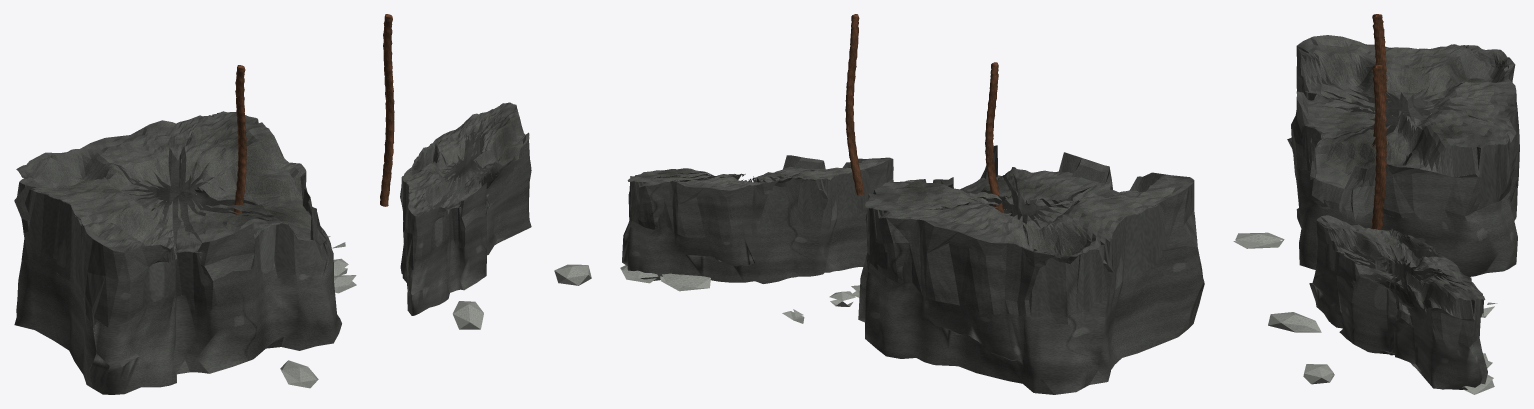
The model's file is lod1_NOT_APPROVED.glb.
3 views of the same model, side by side, from view 1: azimuth 30°, elevation 25°; view 2: azimuth 150°, elevation 25°; view 3: azimuth 270°, elevation 25° (orthographic). The views are drawn at different scales.
Parts seen in each view (by area): view 1: F3_CONCRETE_BROKEN_INTERIOR_WITH_EMBEDDED_STONES_surface, F3_OLD_CONCRETE_INTACT_AND_FRACTURE_surface, F3_CONCRETE_BROKEN_INTERIOR_WITH_EMBEDDED_STONES.001_surface, F3_OLD_CONCRETE_INTACT_AND_FRACTURE.001_surface, f3_exposed_aggregate_surface, oxidized_reinforcing_steel.001_surface, oxidized_reinforcing_steel_surface; view 2: F3_CONCRETE_BROKEN_INTERIOR_WITH_EMBEDDED_STONES_surface, F3_CONCRETE_BROKEN_INTERIOR_WITH_EMBEDDED_STONES.001_surface, F3_OLD_CONCRETE_INTACT_AND_FRACTURE_surface, F3_OLD_CONCRETE_INTACT_AND_FRACTURE.001_surface, f3_exposed_aggregate_surface, oxidized_reinforcing_steel.001_surface, oxidized_reinforcing_steel_surface; view 3: F3_CONCRETE_BROKEN_INTERIOR_WITH_EMBEDDED_STONES_surface, F3_OLD_CONCRETE_INTACT_AND_FRACTURE_surface, F3_CONCRETE_BROKEN_INTERIOR_WITH_EMBEDDED_STONES.001_surface, F3_OLD_CONCRETE_INTACT_AND_FRACTURE.001_surface, f3_exposed_aggregate_surface, oxidized_reinforcing_steel.001_surface, oxidized_reinforcing_steel_surface.
Part boxes in pixels (x1,y1,x2,y2): F3_CONCRETE_BROKEN_INTERIOR_WITH_EMBEDDED_STONES_surface: (14, 111, 341, 394); F3_OLD_CONCRETE_INTACT_AND_FRACTURE_surface: (36, 125, 333, 391); F3_CONCRETE_BROKEN_INTERIOR_WITH_EMBEDDED_STONES.001_surface: (400, 102, 531, 315); F3_OLD_CONCRETE_INTACT_AND_FRACTURE.001_surface: (402, 113, 529, 299); f3_exposed_aggregate_surface: (94, 236, 591, 388); oxidized_reinforcing_steel.001_surface: (380, 14, 394, 206); oxidized_reinforcing_steel_surface: (233, 65, 246, 215); F3_CONCRETE_BROKEN_INTERIOR_WITH_EMBEDDED_STONES_surface: (858, 145, 1204, 394); F3_CONCRETE_BROKEN_INTERIOR_WITH_EMBEDDED_STONES.001_surface: (622, 155, 893, 283); F3_OLD_CONCRETE_INTACT_AND_FRACTURE_surface: (890, 171, 1192, 366); F3_OLD_CONCRETE_INTACT_AND_FRACTURE.001_surface: (653, 159, 890, 280); f3_exposed_aggregate_surface: (620, 265, 859, 323); oxidized_reinforcing_steel.001_surface: (845, 14, 864, 195); oxidized_reinforcing_steel_surface: (985, 62, 1003, 212); F3_CONCRETE_BROKEN_INTERIOR_WITH_EMBEDDED_STONES_surface: (1287, 37, 1519, 276); F3_OLD_CONCRETE_INTACT_AND_FRACTURE_surface: (1313, 35, 1494, 219); F3_CONCRETE_BROKEN_INTERIOR_WITH_EMBEDDED_STONES.001_surface: (1309, 216, 1487, 389); F3_OLD_CONCRETE_INTACT_AND_FRACTURE.001_surface: (1322, 215, 1467, 389); f3_exposed_aggregate_surface: (1233, 232, 1497, 394); oxidized_reinforcing_steel.001_surface: (1371, 65, 1386, 229); oxidized_reinforcing_steel_surface: (1371, 14, 1386, 152).
Bounding box in the file's own units: 2.2 × 1.13 × 1.17.
Materials: 7 (7 with a texture image).
